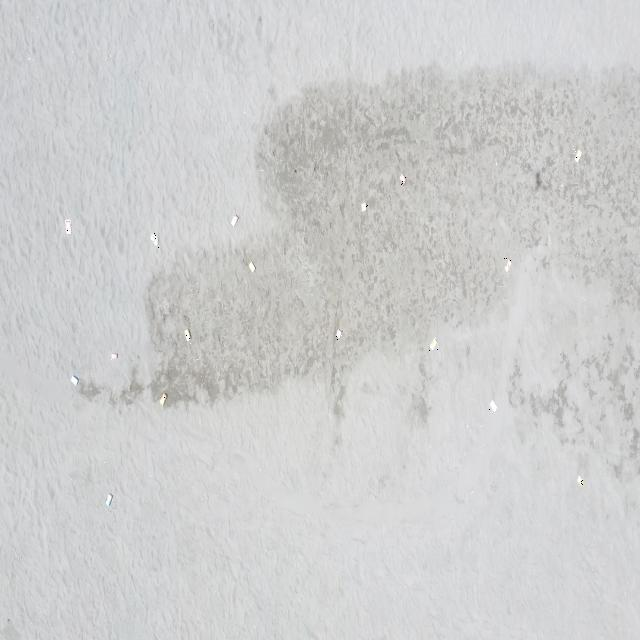Garbage: (104, 492, 112, 506), (428, 336, 436, 350), (151, 232, 158, 247), (64, 219, 71, 233), (504, 256, 510, 272), (247, 261, 255, 272), (488, 400, 495, 412), (183, 328, 190, 340), (335, 328, 342, 339), (159, 393, 166, 404), (360, 200, 367, 211), (232, 215, 238, 226), (575, 148, 580, 161), (576, 475, 583, 484), (71, 375, 77, 384), (400, 173, 404, 184), (111, 352, 116, 359)
